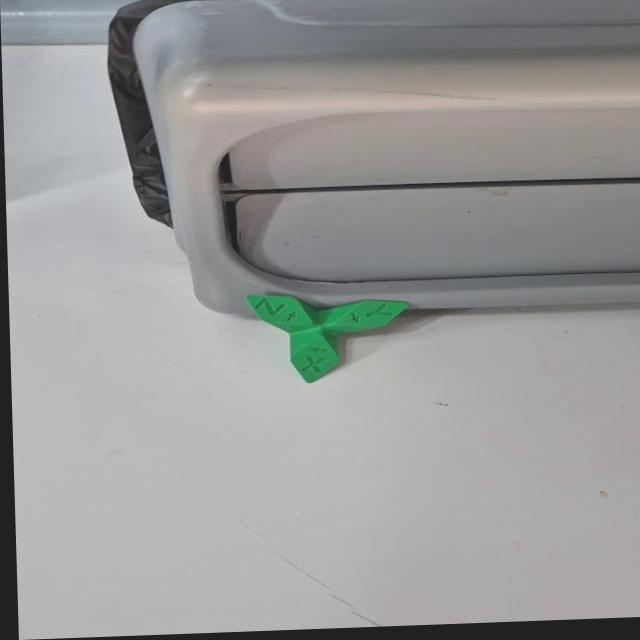eje: (243, 287, 414, 387)
